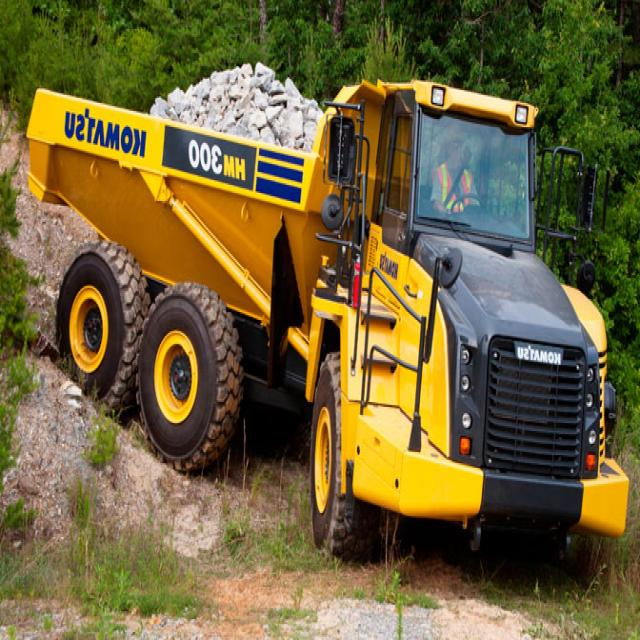truck: (28, 80, 629, 556)
